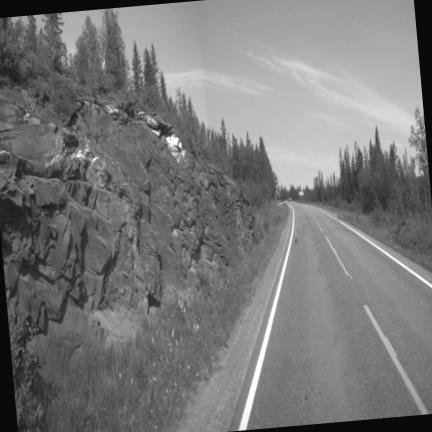Road: (237, 203, 431, 428)
